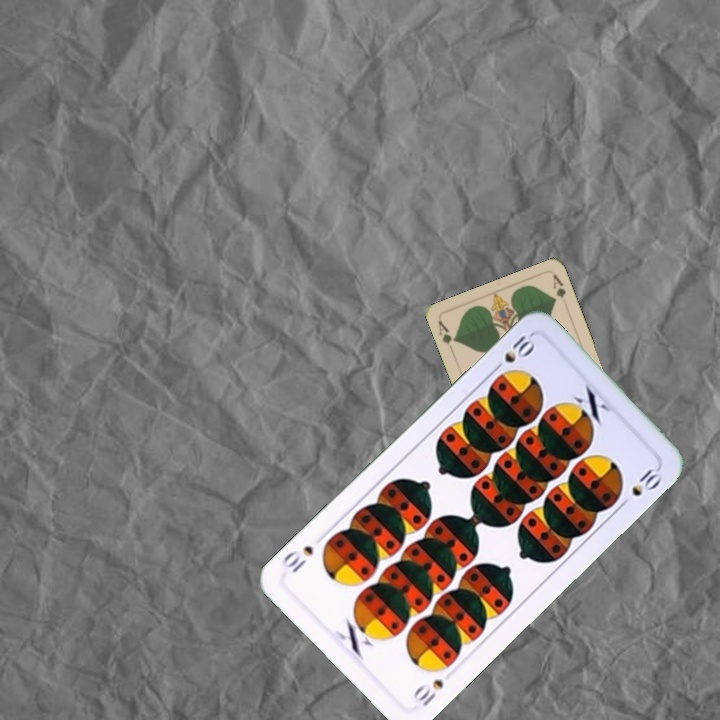GA: (434, 317, 460, 356)
S10: (488, 330, 538, 375), (409, 675, 446, 710)
